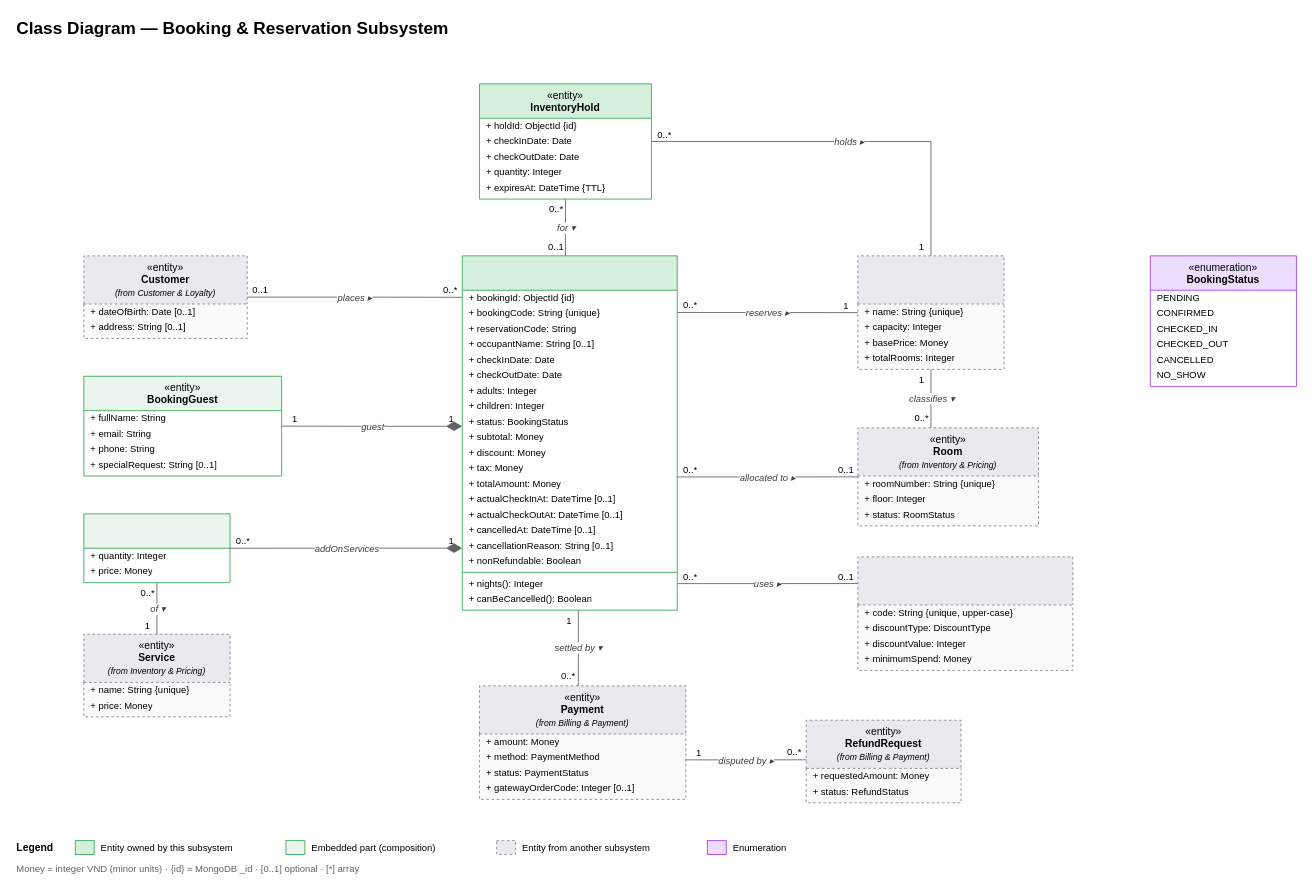
This 1312x893 diagram has some shape labels left out. Here are the shapes that lost their labels. From the top down, the box of each, then its label:
(857, 255, 1004, 369): «entity» RoomType (from Inventory & Pricing)
(461, 255, 677, 610): «entity» Booking
(83, 513, 230, 583): «entity» BookingAddOn
(857, 556, 1073, 670): «entity» Promotion (from Inventory & Pricing)
